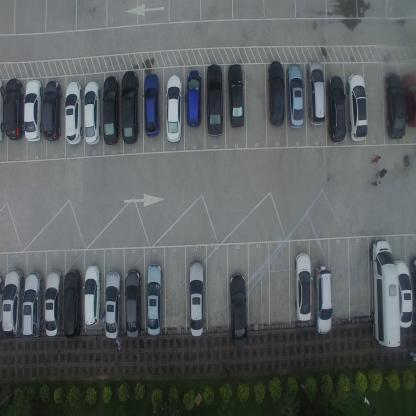car: (370, 238, 401, 348), (1, 268, 24, 340), (346, 72, 368, 142), (21, 271, 43, 338), (384, 72, 406, 138), (228, 271, 247, 347), (62, 268, 82, 340), (205, 62, 224, 137), (393, 258, 413, 329), (121, 69, 139, 145), (313, 264, 332, 336), (146, 262, 164, 337), (306, 60, 326, 127), (326, 75, 346, 142), (4, 76, 24, 140), (102, 75, 120, 146), (294, 252, 312, 322), (104, 269, 122, 339), (226, 63, 245, 129), (266, 60, 285, 126), (124, 267, 141, 339), (44, 270, 62, 338), (189, 257, 204, 337), (165, 73, 182, 143), (82, 79, 100, 145), (64, 80, 82, 146), (286, 63, 304, 129), (42, 80, 61, 142), (24, 77, 42, 141), (143, 72, 160, 138), (84, 264, 101, 326), (185, 68, 202, 127), (402, 72, 416, 128), (0, 79, 5, 142)
